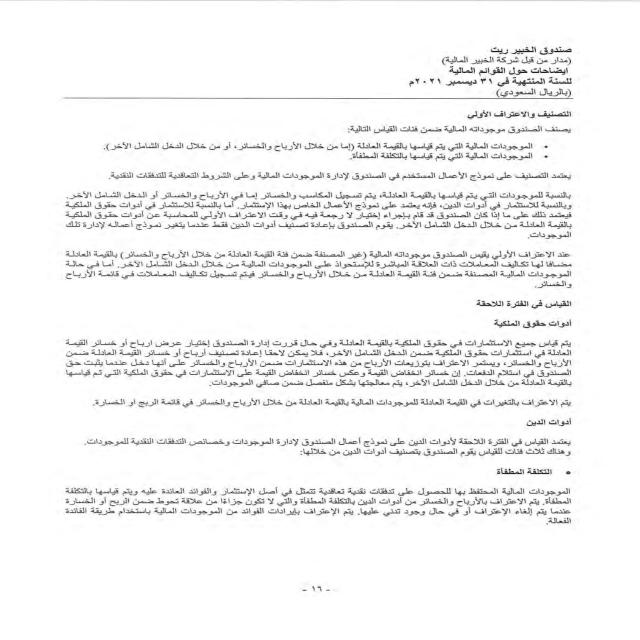notes: (441, 65, 586, 75)
text: (34, 111, 584, 536)
